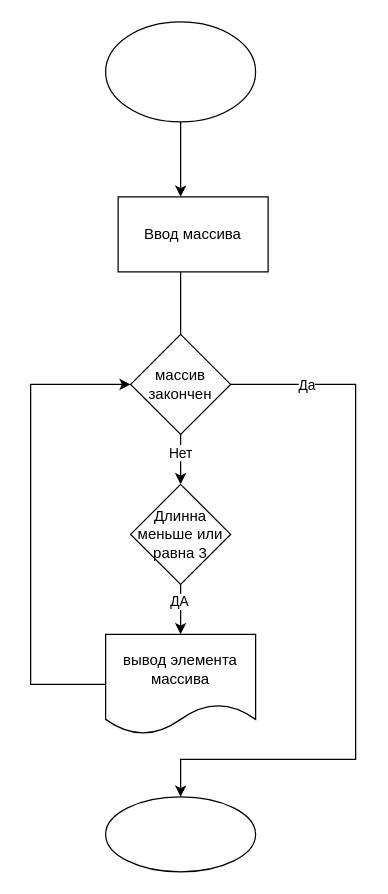
Some shapes in this 388 by 894 pixel diagram are drawn without their labels. Each missing label, with the box of its shape:
End: (104, 796, 256, 872)
Start: (104, 21, 256, 122)
